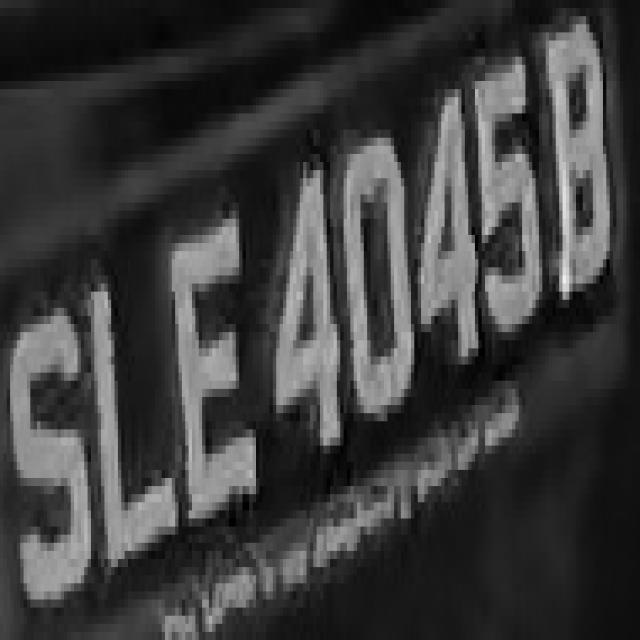0: (340, 113, 424, 446)
4: (249, 146, 347, 486), (401, 81, 482, 389)
5: (465, 40, 546, 348)
B: (542, 8, 616, 324)
E: (162, 187, 262, 502)
L: (77, 267, 182, 584)
S: (0, 300, 98, 632)
